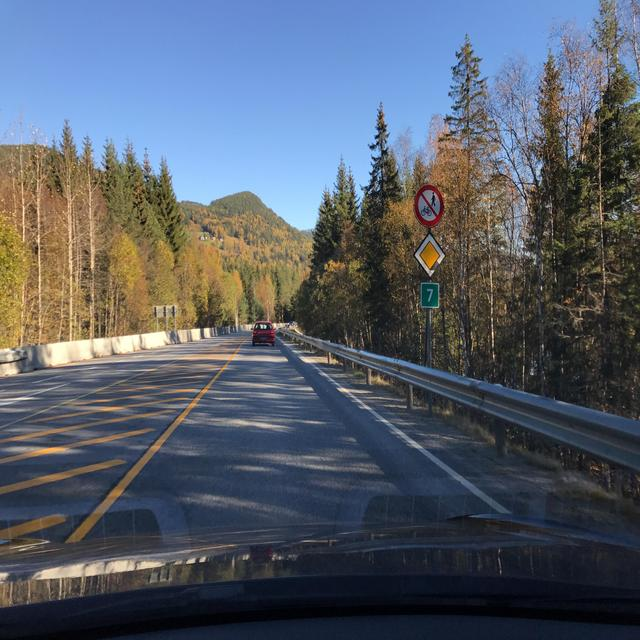Barrier: (0, 324, 253, 377), (273, 323, 289, 328)
Car: (250, 320, 275, 346)
Vegetation: (158, 317, 173, 331)
